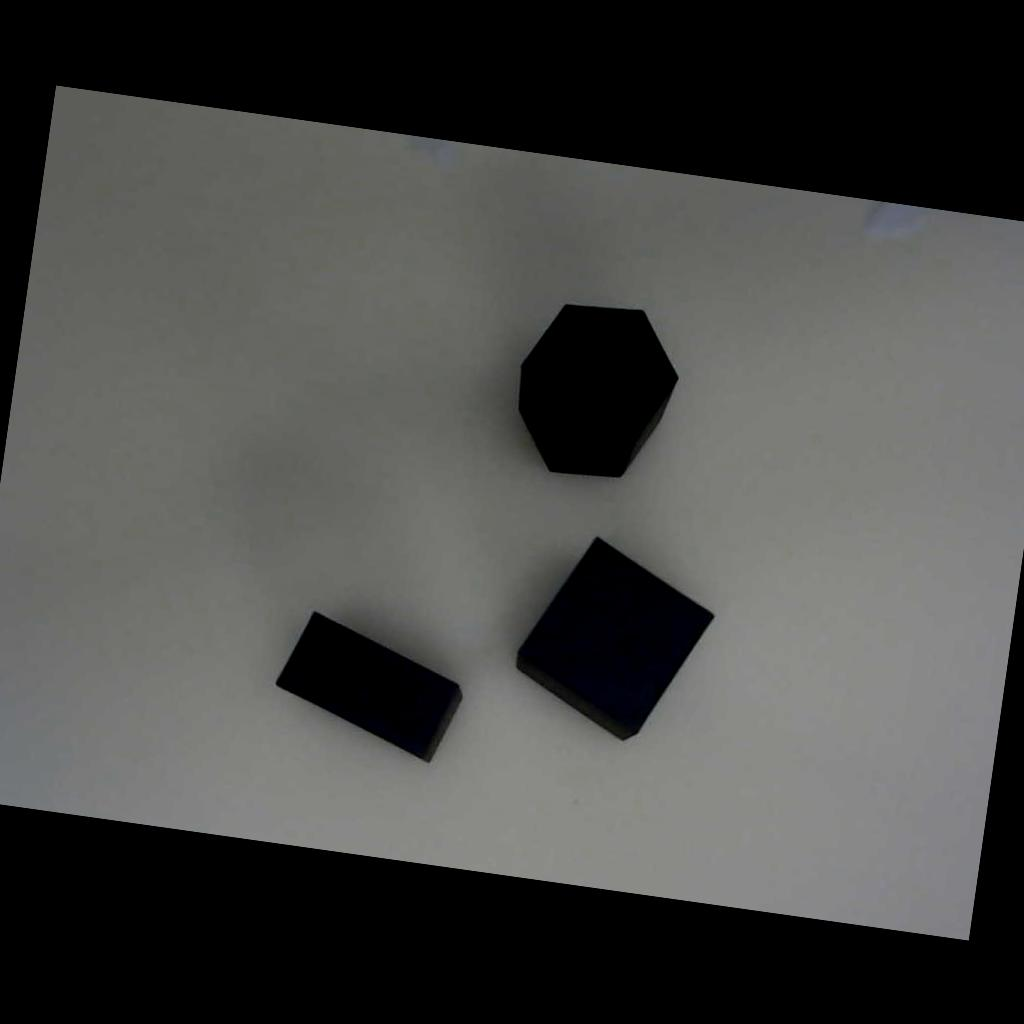hexagon: (477, 264, 711, 509)
rectangle: (255, 593, 484, 777)
square: (482, 506, 744, 767)
